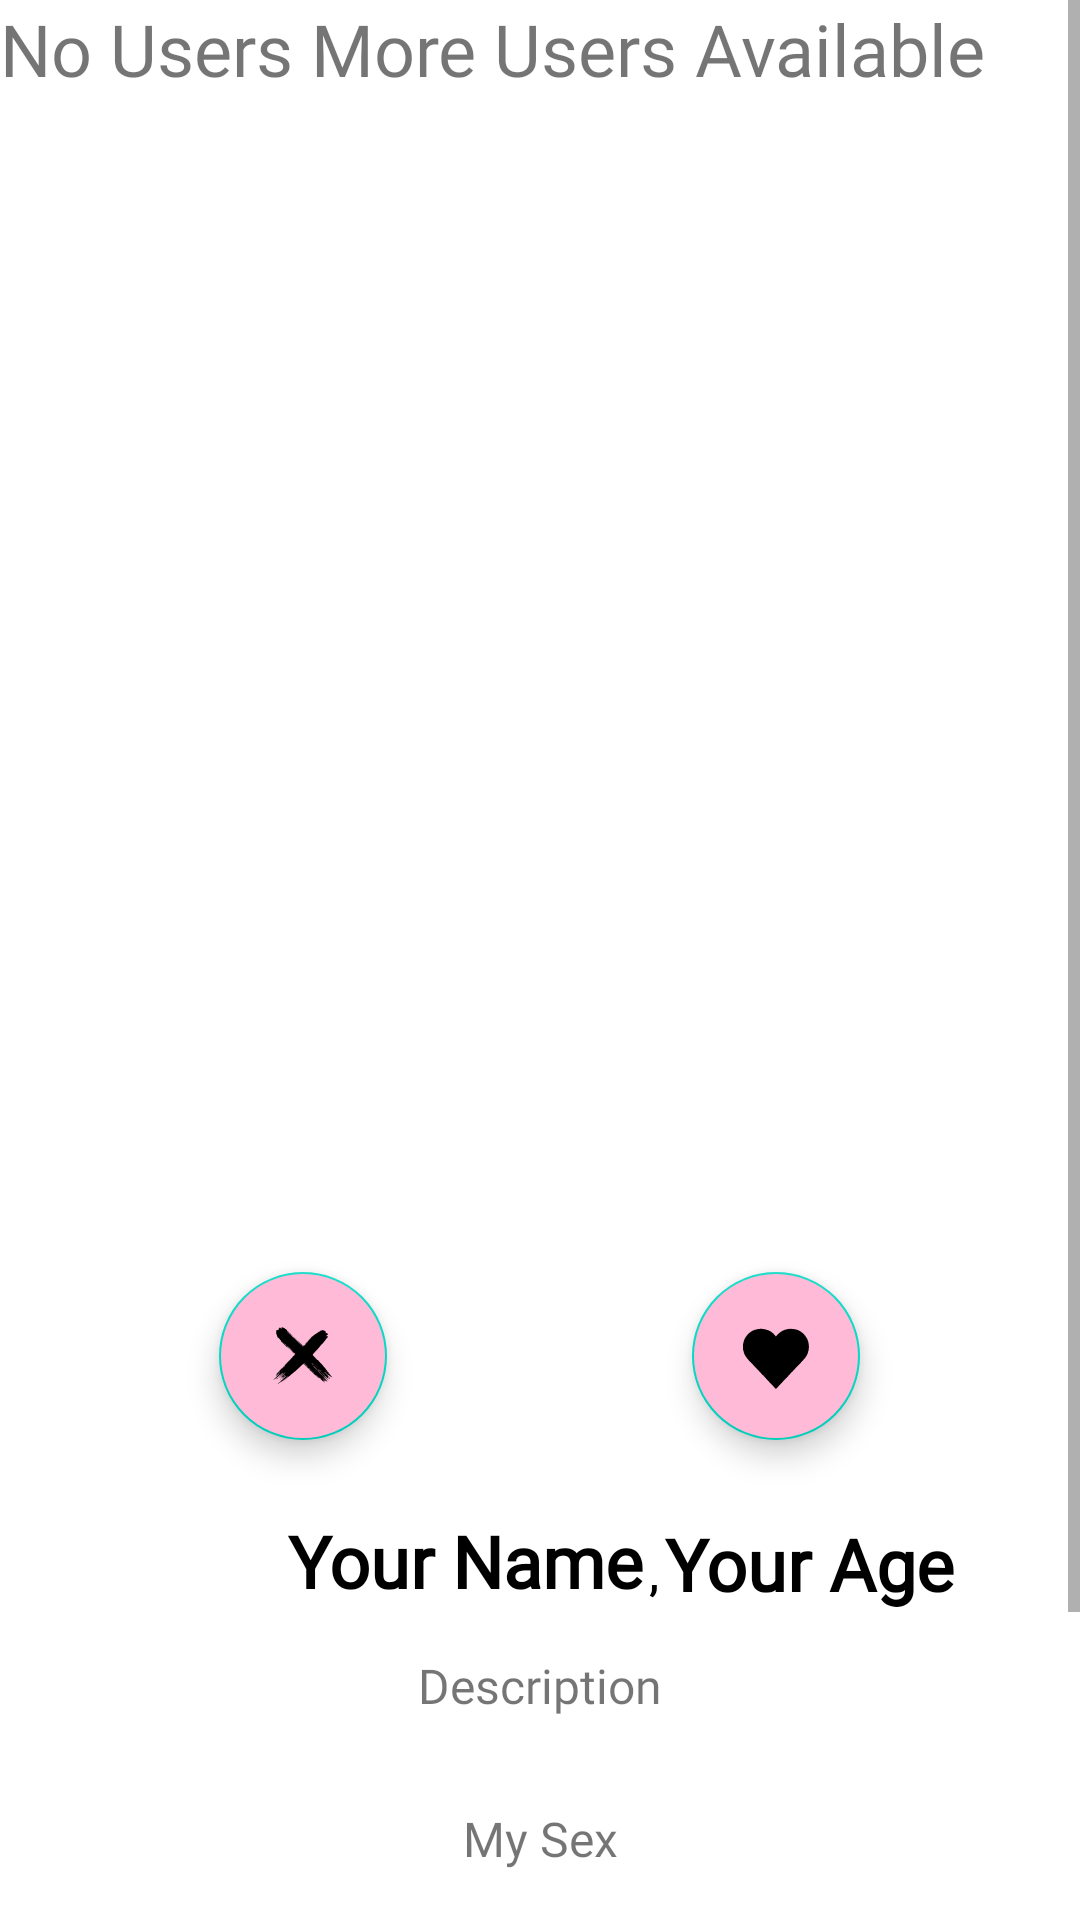

Named icons in this screenshot (1080x1920) and their centers, (x=x, y=y):
cross: (x=303, y=1356)
heart: (x=776, y=1356)
